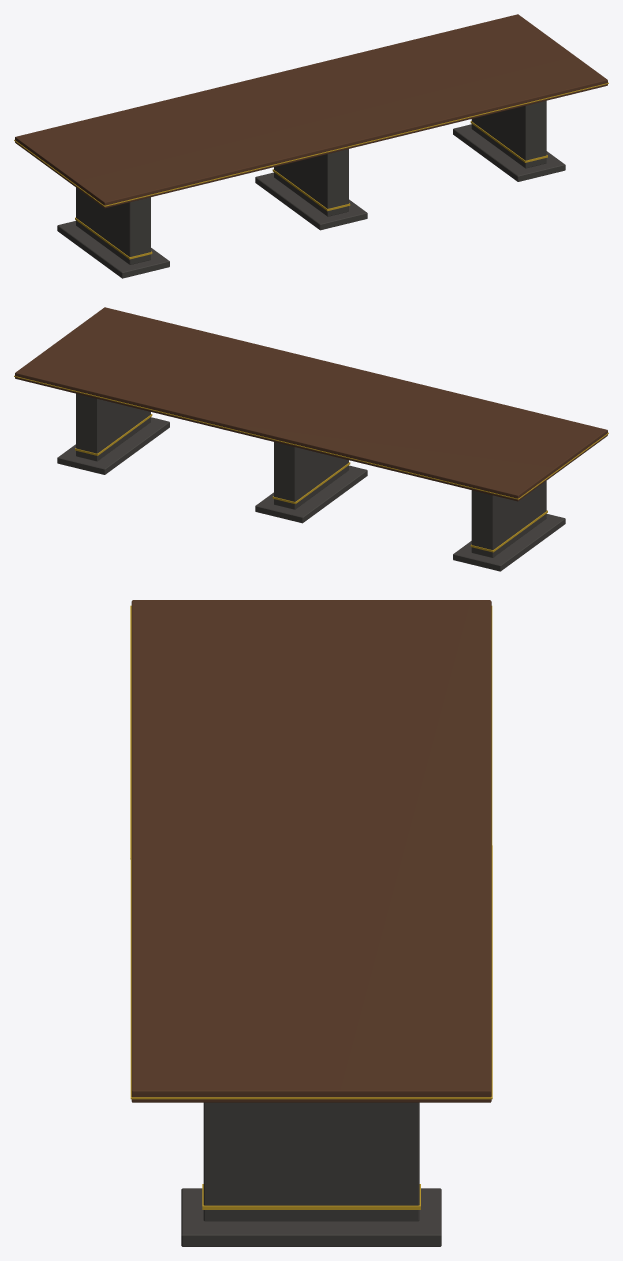
Rendered from prop_table_boardroom.glb.
3 renders of one model, top to bottom at view 1: azimuth 30°, elevation 25°; view 2: azimuth 150°, elevation 25°; view 3: azimuth 270°, elevation 25°, orthographic. The views are drawn at different scales.
Parts seen in each view (by area): view 1: Table; view 2: Table; view 3: Table.
Part boxes in pixels (x1,y1,x2,y2): Table: (14, 14, 608, 278); Table: (14, 307, 608, 571); Table: (130, 600, 492, 1246).
Size of what is drawn, in the model's own units: 4.21 by 0.74 by 1.31.
